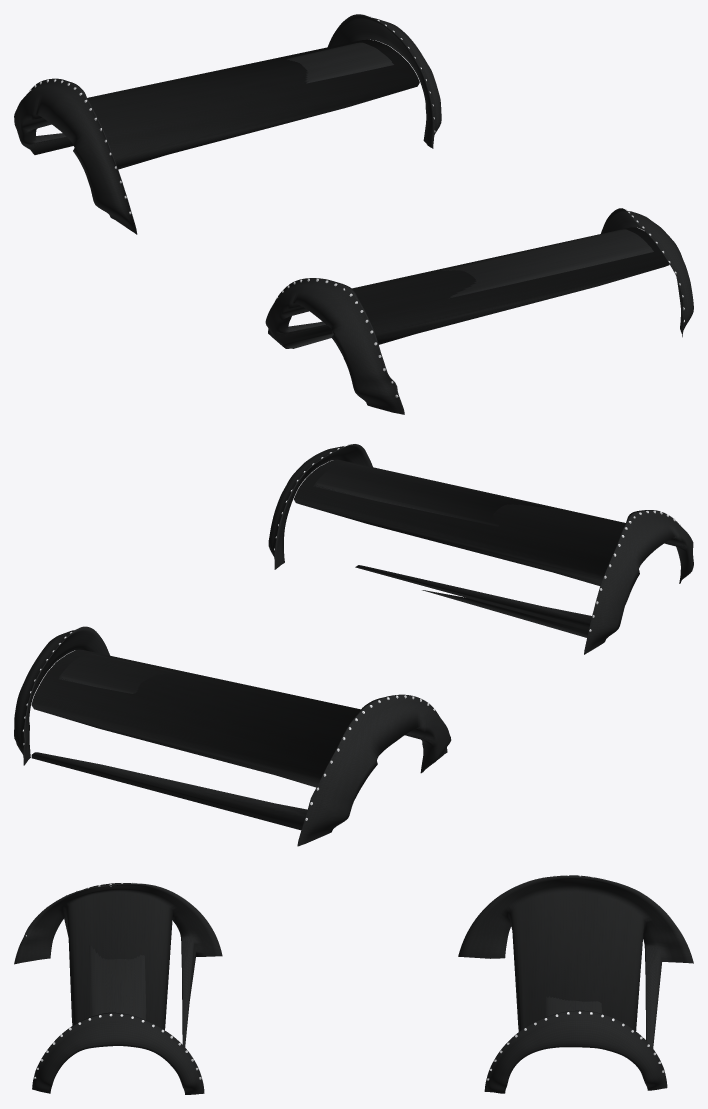
The model's file is WB02_widebody_fenders_carbon.glb.
3 views of the same model, one above another, from view 1: azimuth 30°, elevation 25°; view 2: azimuth 150°, elevation 25°; view 3: azimuth 270°, elevation 25° (orthographic). The views are drawn at different scales.
Parts seen in each view (by area): view 1: MOD_NA_WB02_rear_R, MOD_NA_WB02_front_R, MOD_NA_WB02_rear_L, MOD_NA_WB02_front_L; view 2: MOD_NA_WB02_rear_R, MOD_NA_WB02_front_R, MOD_NA_WB02_rear_L, MOD_NA_WB02_front_L; view 3: MOD_NA_WB02_rear_R, MOD_NA_WB02_front_R, MOD_NA_WB02_rear_L, MOD_NA_WB02_front_L.
Part boxes in pixels (left/top/right/bottom): MOD_NA_WB02_rear_R: left=14, top=39, right=419, bottom=234; MOD_NA_WB02_front_R: left=265, top=227, right=669, bottom=414; MOD_NA_WB02_rear_L: left=328, top=14, right=441, bottom=148; MOD_NA_WB02_front_L: left=601, top=208, right=693, bottom=337; MOD_NA_WB02_rear_R: left=31, top=650, right=451, bottom=846; MOD_NA_WB02_front_R: left=293, top=459, right=693, bottom=654; MOD_NA_WB02_rear_L: left=14, top=626, right=109, bottom=765; MOD_NA_WB02_front_L: left=268, top=444, right=372, bottom=569; MOD_NA_WB02_rear_R: left=458, top=875, right=693, bottom=1048; MOD_NA_WB02_front_R: left=14, top=883, right=222, bottom=1046; MOD_NA_WB02_rear_L: left=484, top=1010, right=667, bottom=1093; MOD_NA_WB02_front_L: left=32, top=1012, right=204, bottom=1094.
Size of the model in its own units: 1.82 by 0.4783 by 3.42.
2 materials, 1 textured.
